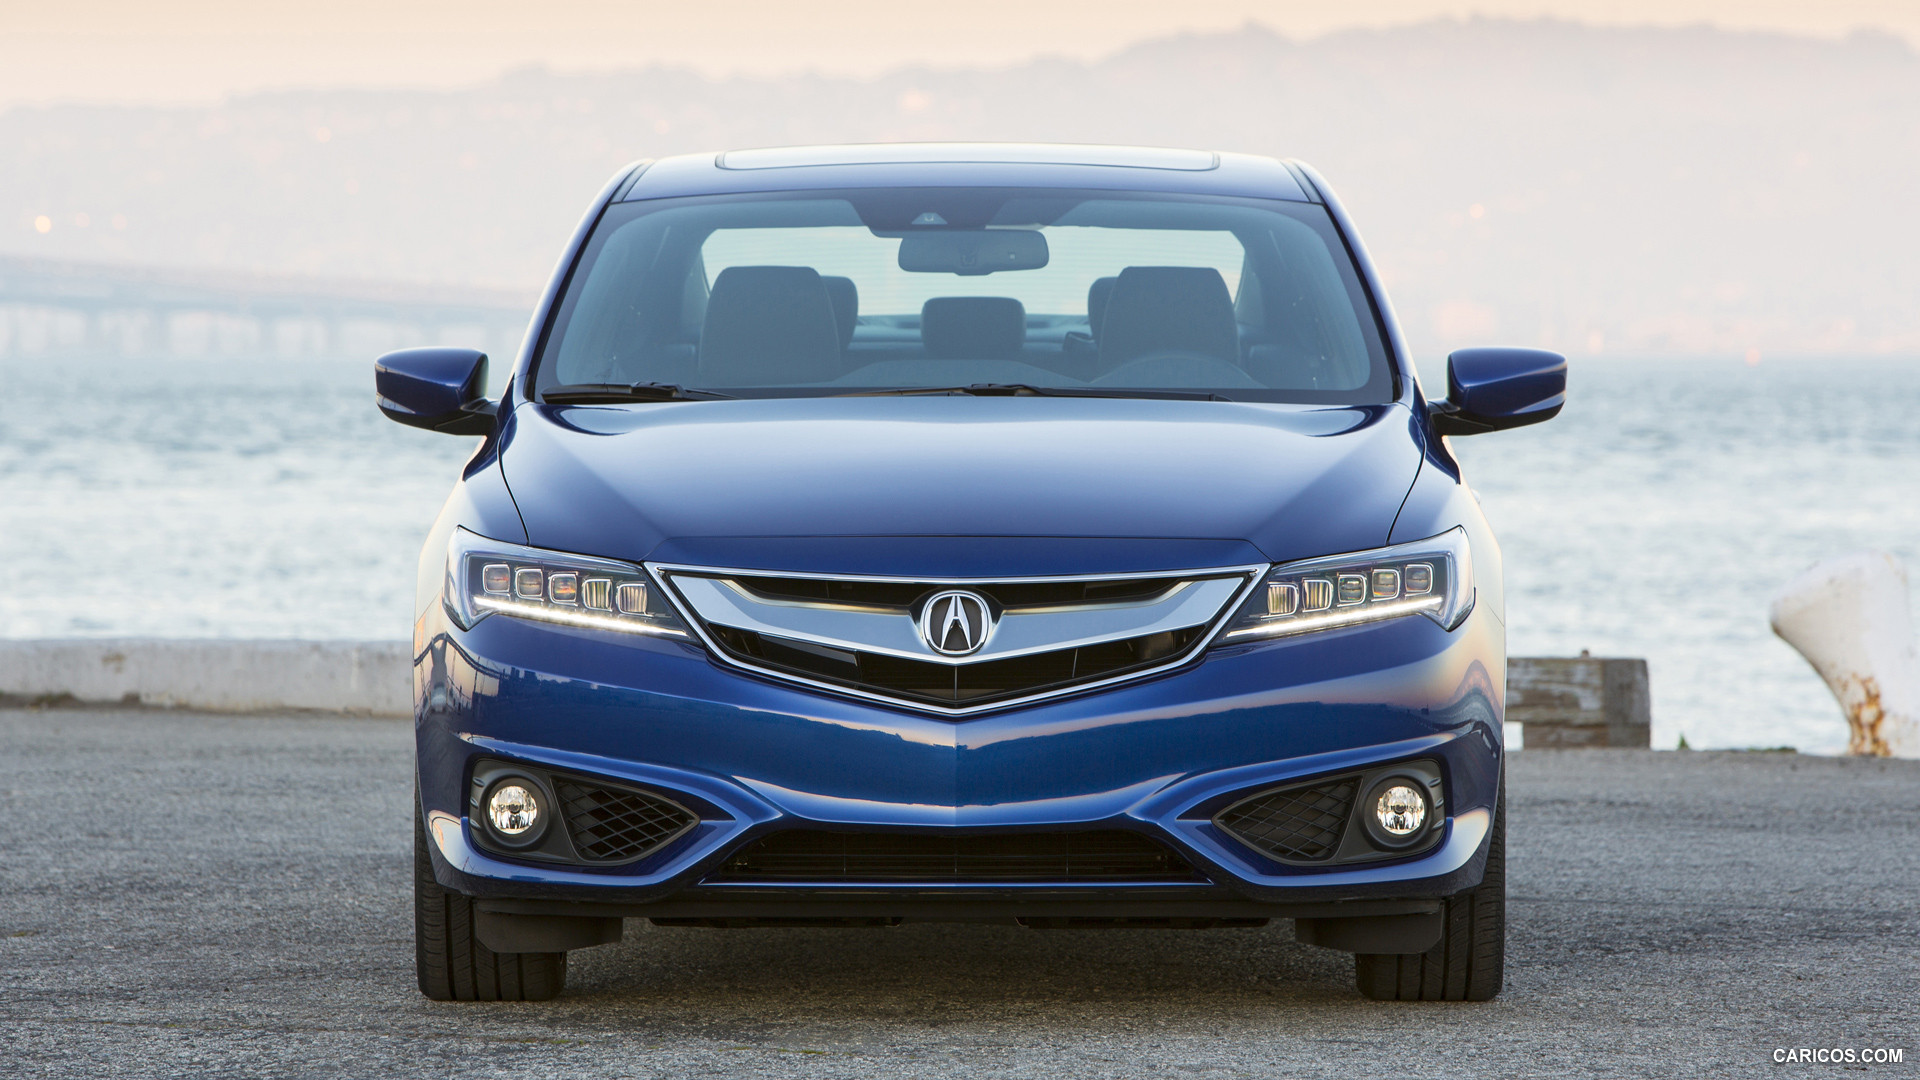Fog Lamp & Scope: (1209, 756, 1461, 870)
Front: (415, 434, 1510, 902)
Front Bumper: (421, 712, 1502, 907)
Grill: (671, 562, 1261, 720)
Headlight: (1205, 527, 1476, 657)
